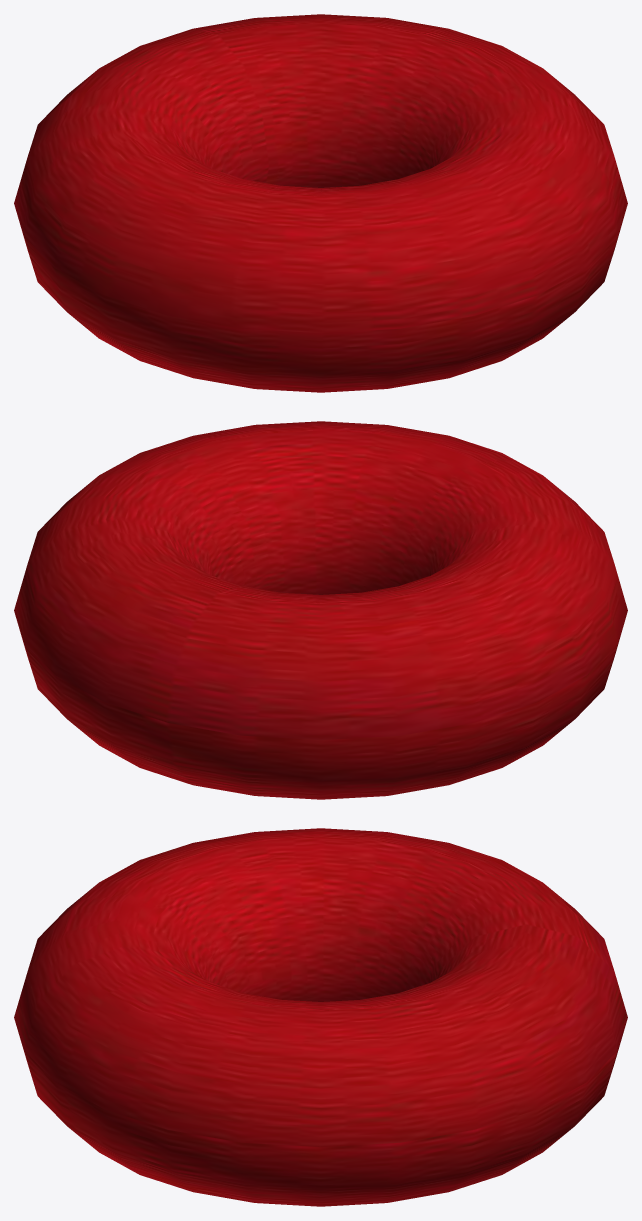
File: flotador.obj
3 views of the same model, one above another, from view 1: azimuth 30°, elevation 25°; view 2: azimuth 150°, elevation 25°; view 3: azimuth 270°, elevation 25° (orthographic).
Parts seen in each view (by area): view 1: flotador001; view 2: flotador001; view 3: flotador001.
Boxes of the visible parts, box(x1,y1,x2,y2) form: flotador001: box(14, 14, 627, 392); flotador001: box(14, 421, 627, 799); flotador001: box(14, 828, 627, 1206).
Bounding box in the file's own units: 0.4593 × 0.1539 × 0.4594.
1 material, 1 textured.
